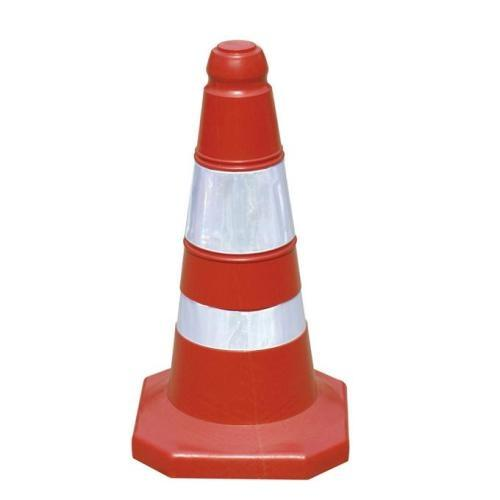cone_barrel: (128, 38, 348, 478)
